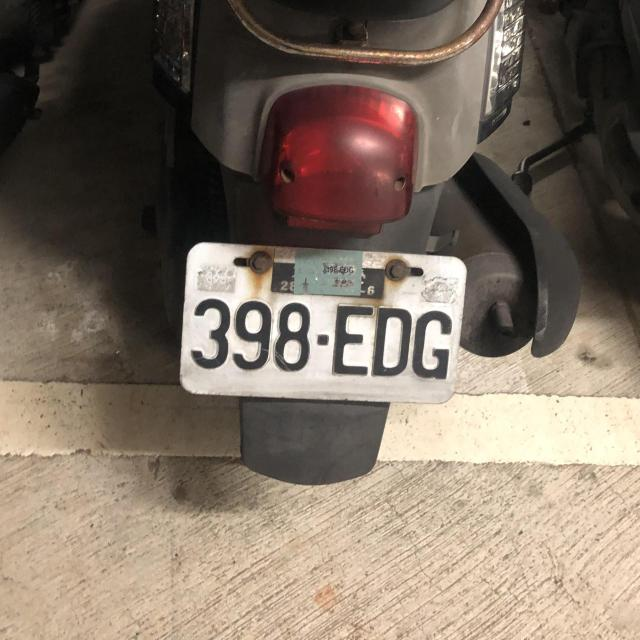W: (172, 229, 471, 414)
